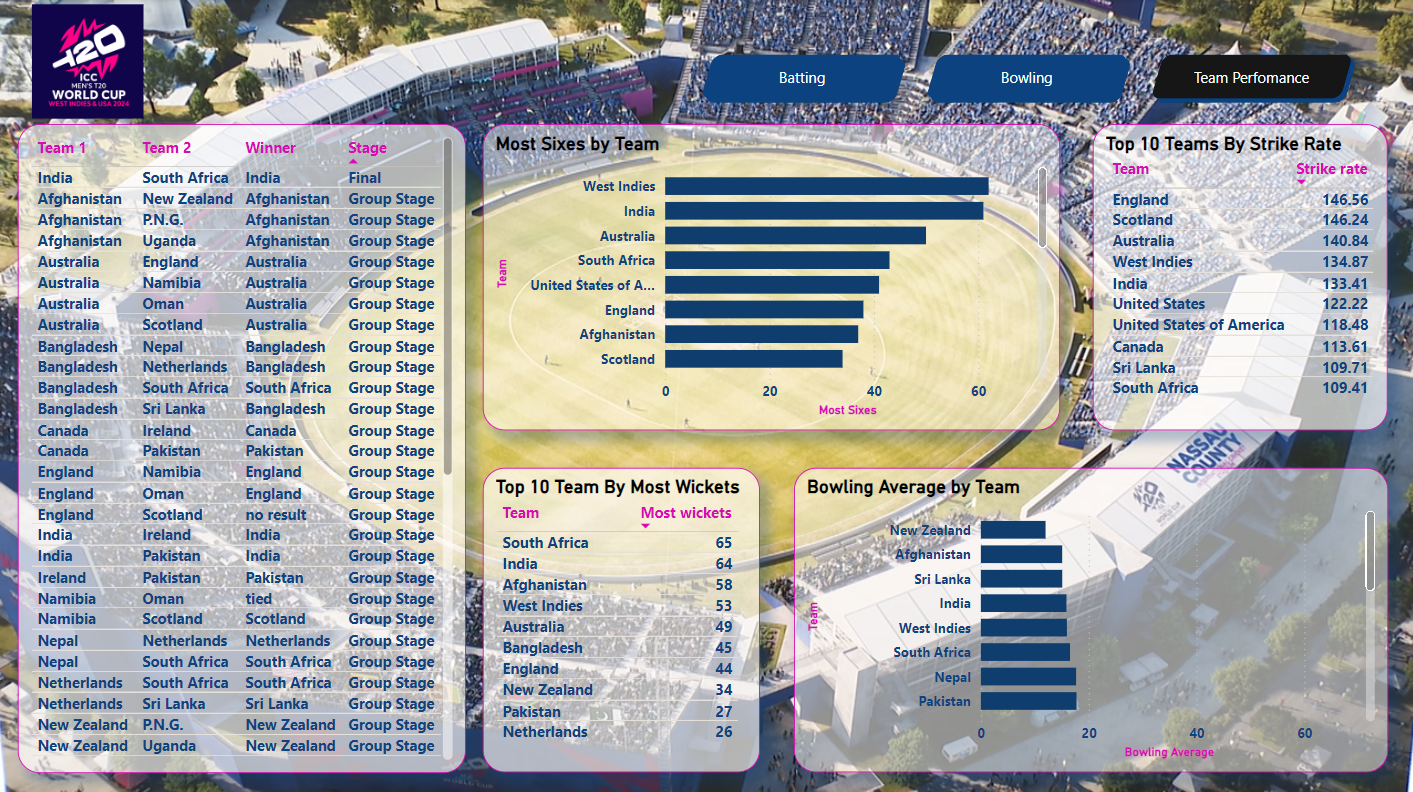

What the dashboard file says about the page in this screenshot:
{"tool":"powerbi","page":{"name":"Team Perfomance","canvas":[1280,720],"ordinal":2},"visuals":[{"type":"tableEx","fields":{"Values":["t20worldcup_2024_match_results.Team 1","t20worldcup_2024_match_results.Team 2","t20worldcup_2024_match_results.Winner","t20worldcup_2024_match_results.Stage"]},"box":[16.7,113.3,405,586.7],"z":0},{"type":"clusteredBarChart","fields":{"Category":["t20worldcup_2024_players.Team"],"Y":["key_Measures.Most Sixes"]},"box":[436.7,113.3,521.7,276.7],"z":1000},{"type":"tableEx","title":"Top 10 Team By Most Wickets","fields":{"Values":["t20worldcup_2024_players.Team","key_Measures.Most wickets"]},"box":[436.7,423.3,250,275],"z":2000},{"type":"tableEx","title":"Top 10 Teams By Strike Rate","fields":{"Values":["t20worldcup_2024_players.Team","key_Measures.Strike rate"]},"box":[988.3,113.3,266.7,276.7],"z":3000},{"type":"clusteredBarChart","fields":{"Category":["t20worldcup_2024_players.Team"],"Y":["key_Measures.Bowling Average"]},"box":[718.3,423.3,536.7,275],"z":4000},{"type":"image","box":[17.1,0,127.1,112.9],"z":5000},{"type":"pageNavigator","box":[628.6,45.7,600,50],"z":6000}]}

Visuals, with their boxes in screenshot pixels (x1, y1, x2, y2), scaled from the page's 1280x720 canvas onto the 1413x792 screenshot:
tableEx - t20worldcup_2024_match_results.Team 1 x t20worldcup_2024_match_results.Team 2: x1=18 y1=125 x2=466 y2=770
clusteredBarChart - t20worldcup_2024_players.Team x key_Measures.Most Sixes: x1=482 y1=125 x2=1058 y2=429
"Top 10 Team By Most Wickets" tableEx: x1=482 y1=466 x2=758 y2=768
"Top 10 Teams By Strike Rate" tableEx: x1=1091 y1=125 x2=1385 y2=429
clusteredBarChart - t20worldcup_2024_players.Team x key_Measures.Bowling Average: x1=793 y1=466 x2=1385 y2=768
image: x1=19 y1=0 x2=159 y2=124
pageNavigator: x1=694 y1=50 x2=1356 y2=105
